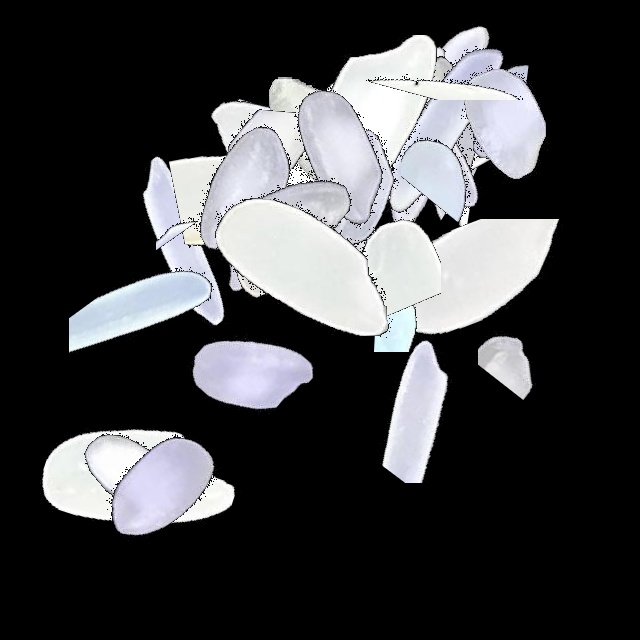Broken: (282, 35, 532, 208), (345, 67, 595, 239), (176, 97, 346, 347), (308, 314, 558, 483), (371, 219, 621, 387), (189, 66, 351, 316), (231, 63, 481, 220), (128, 113, 378, 267), (165, 144, 415, 295), (69, 230, 219, 480), (338, 0, 487, 250), (330, 39, 580, 173), (288, 81, 538, 214), (176, 163, 426, 295), (276, 0, 403, 250), (212, 47, 333, 297), (401, 23, 521, 273), (327, 129, 441, 379), (308, 239, 558, 352), (478, 214, 581, 464), (372, 46, 474, 296), (319, 2, 569, 100), (227, 119, 477, 214), (366, 0, 455, 250), (156, 45, 239, 295), (180, 152, 430, 228), (226, 0, 302, 250)
Full: (309, 0, 559, 250), (153, 79, 403, 329), (240, 0, 490, 250), (148, 99, 398, 349), (59, 115, 309, 365), (172, 82, 422, 332), (269, 21, 519, 271), (326, 1, 576, 251), (303, 0, 553, 250), (193, 32, 443, 282), (305, 13, 555, 263), (172, 34, 422, 284), (187, 5, 437, 255), (13, 354, 263, 604), (313, 0, 563, 250), (125, 244, 375, 494), (235, 66, 485, 316), (381, 0, 631, 250), (10, 353, 260, 603), (215, 31, 465, 281), (159, 90, 409, 340), (177, 141, 427, 391), (36, 362, 286, 612)
